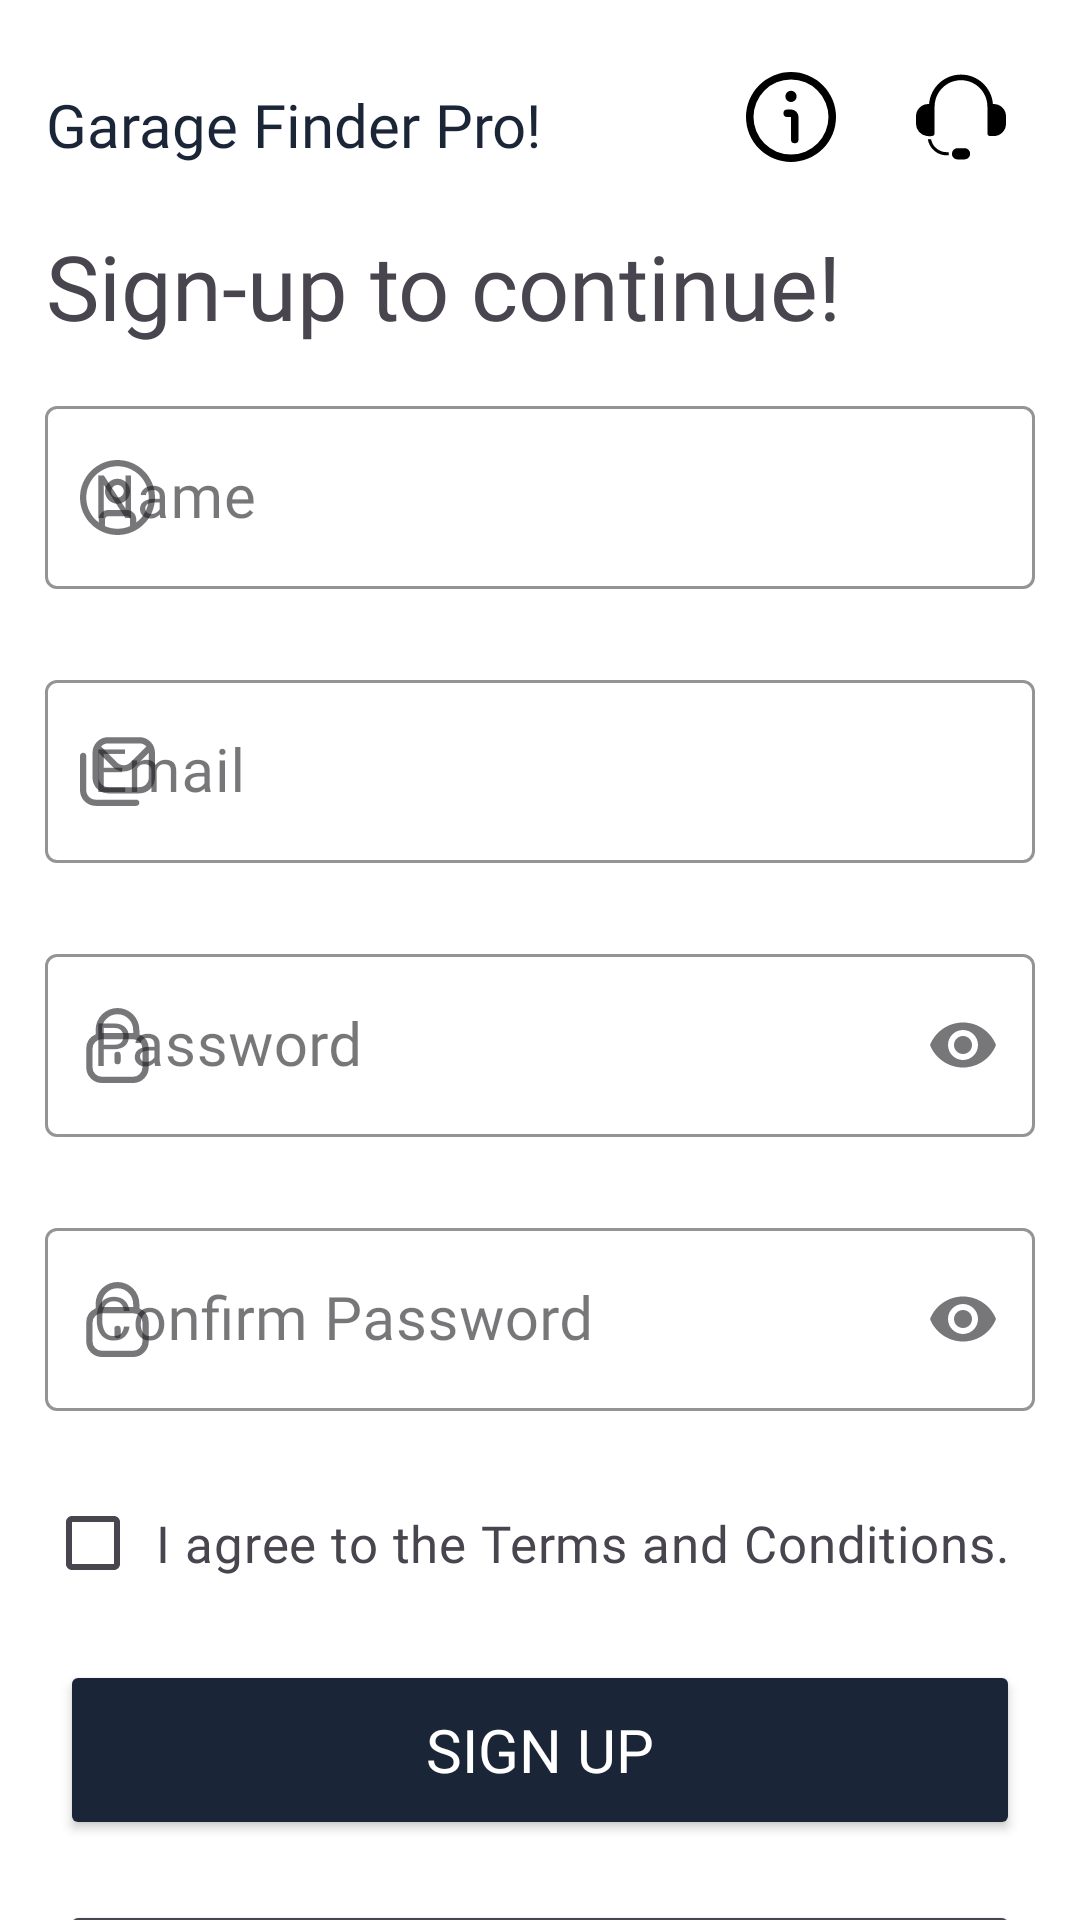

Point at icon controls on the screen. Image size 1080px x 1920px, points as (x,y).
info: (791,117)
support: (961,117)
